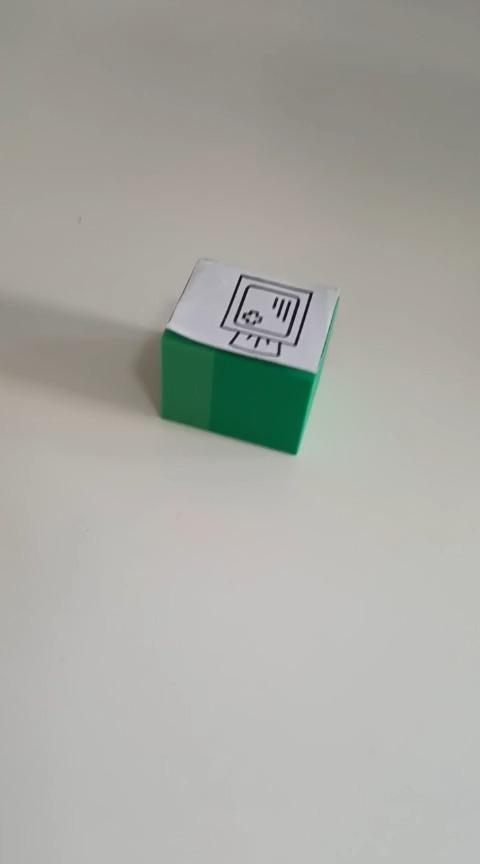Gauze: (158, 256, 340, 455)
